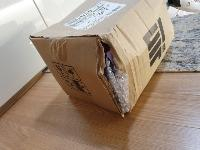damaged package: (96, 33, 132, 114)
undamaged: (27, 0, 179, 122)
